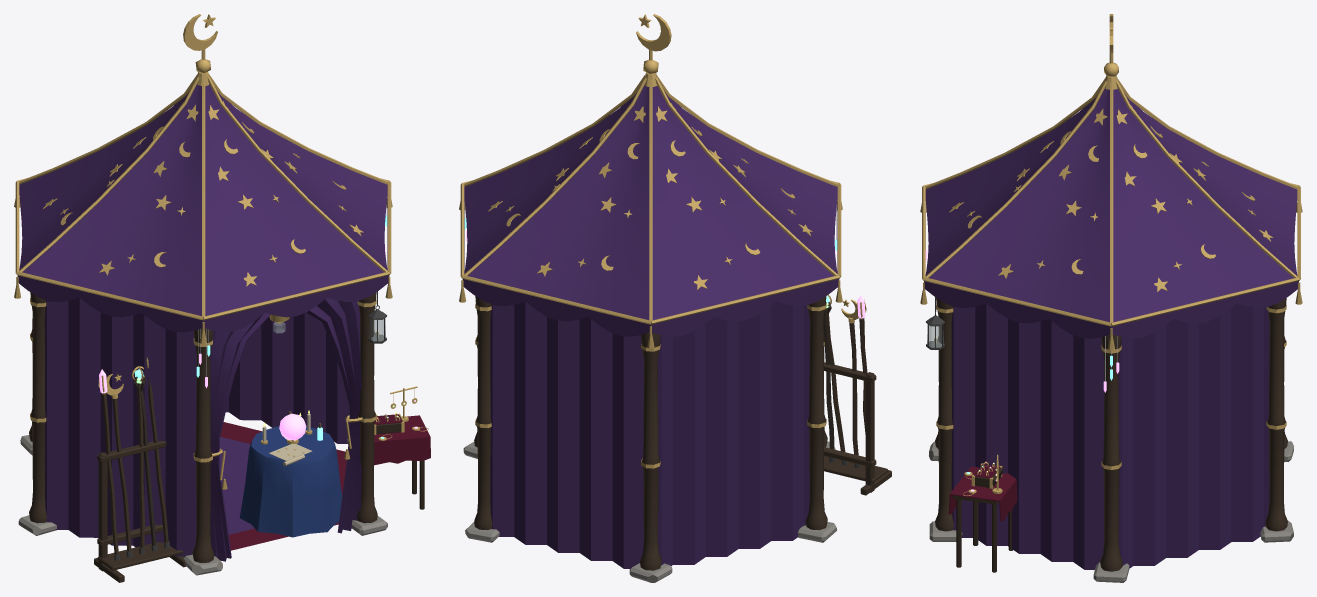
Rendered from stand_arcana.glb.
The picture shows the model from 3 angles, left to right: view 1: azimuth 30°, elevation 25°; view 2: azimuth 150°, elevation 25°; view 3: azimuth 270°, elevation 25°; orthographic projection.
Parts seen in each view (by area): view 1: stand_arcana; view 2: stand_arcana; view 3: stand_arcana.
Part boxes in pixels (left/top/right/bottom): stand_arcana: left=14, top=14, right=430, bottom=582; stand_arcana: left=459, top=14, right=891, bottom=582; stand_arcana: left=920, top=14, right=1302, bottom=582.
Size of what is drawn, in the model's own units: 4.24 by 5.1 by 3.69.
